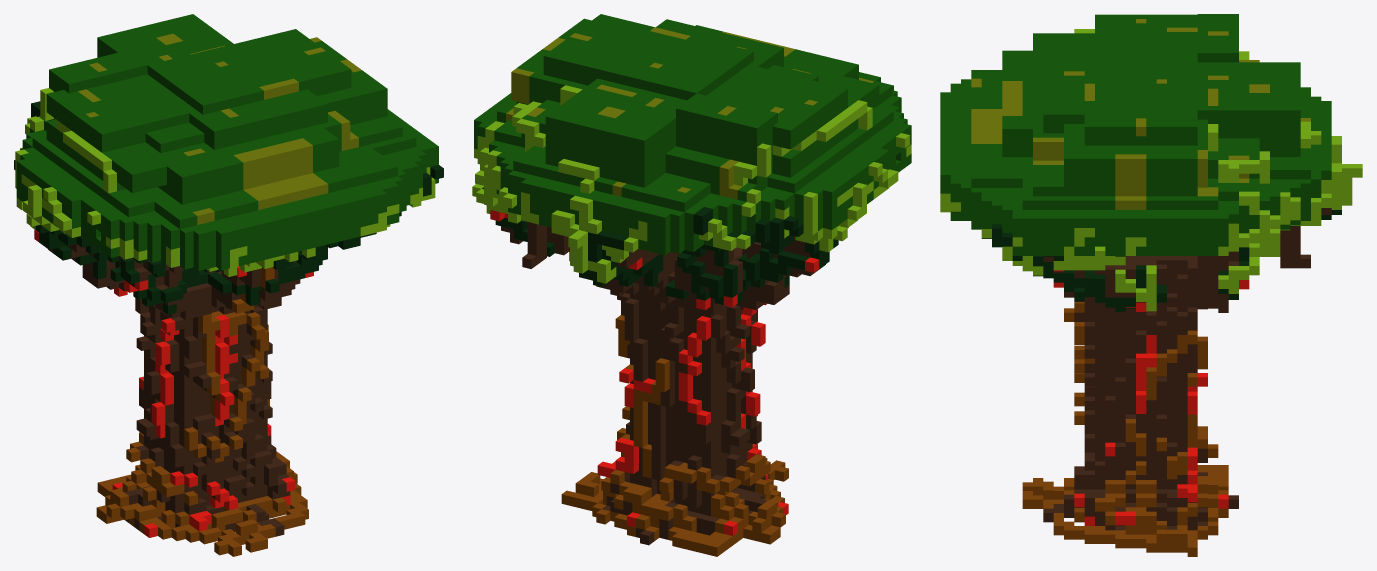
File: Drago_Carlos_Ernesto_Correa_Rodríguez_fase_4.obj
3 renders of one model, left to right at view 1: azimuth 30°, elevation 25°; view 2: azimuth 150°, elevation 25°; view 3: azimuth 270°, elevation 25°, orthographic. The views are drawn at different scales.
Visible parts, largest first — view 1: Drago_Carlos_Ernesto_Correa_Rodríguez_fase_4; view 2: Drago_Carlos_Ernesto_Correa_Rodríguez_fase_4; view 3: Drago_Carlos_Ernesto_Correa_Rodríguez_fase_4.
Part boxes in pixels (box(x1,y1,x2,y2)): Drago_Carlos_Ernesto_Correa_Rodríguez_fase_4: box(14, 14, 443, 556); Drago_Carlos_Ernesto_Correa_Rodríguez_fase_4: box(472, 14, 911, 556); Drago_Carlos_Ernesto_Correa_Rodríguez_fase_4: box(940, 14, 1362, 556).
Size of the model in its own units: 41 by 47 by 41.
